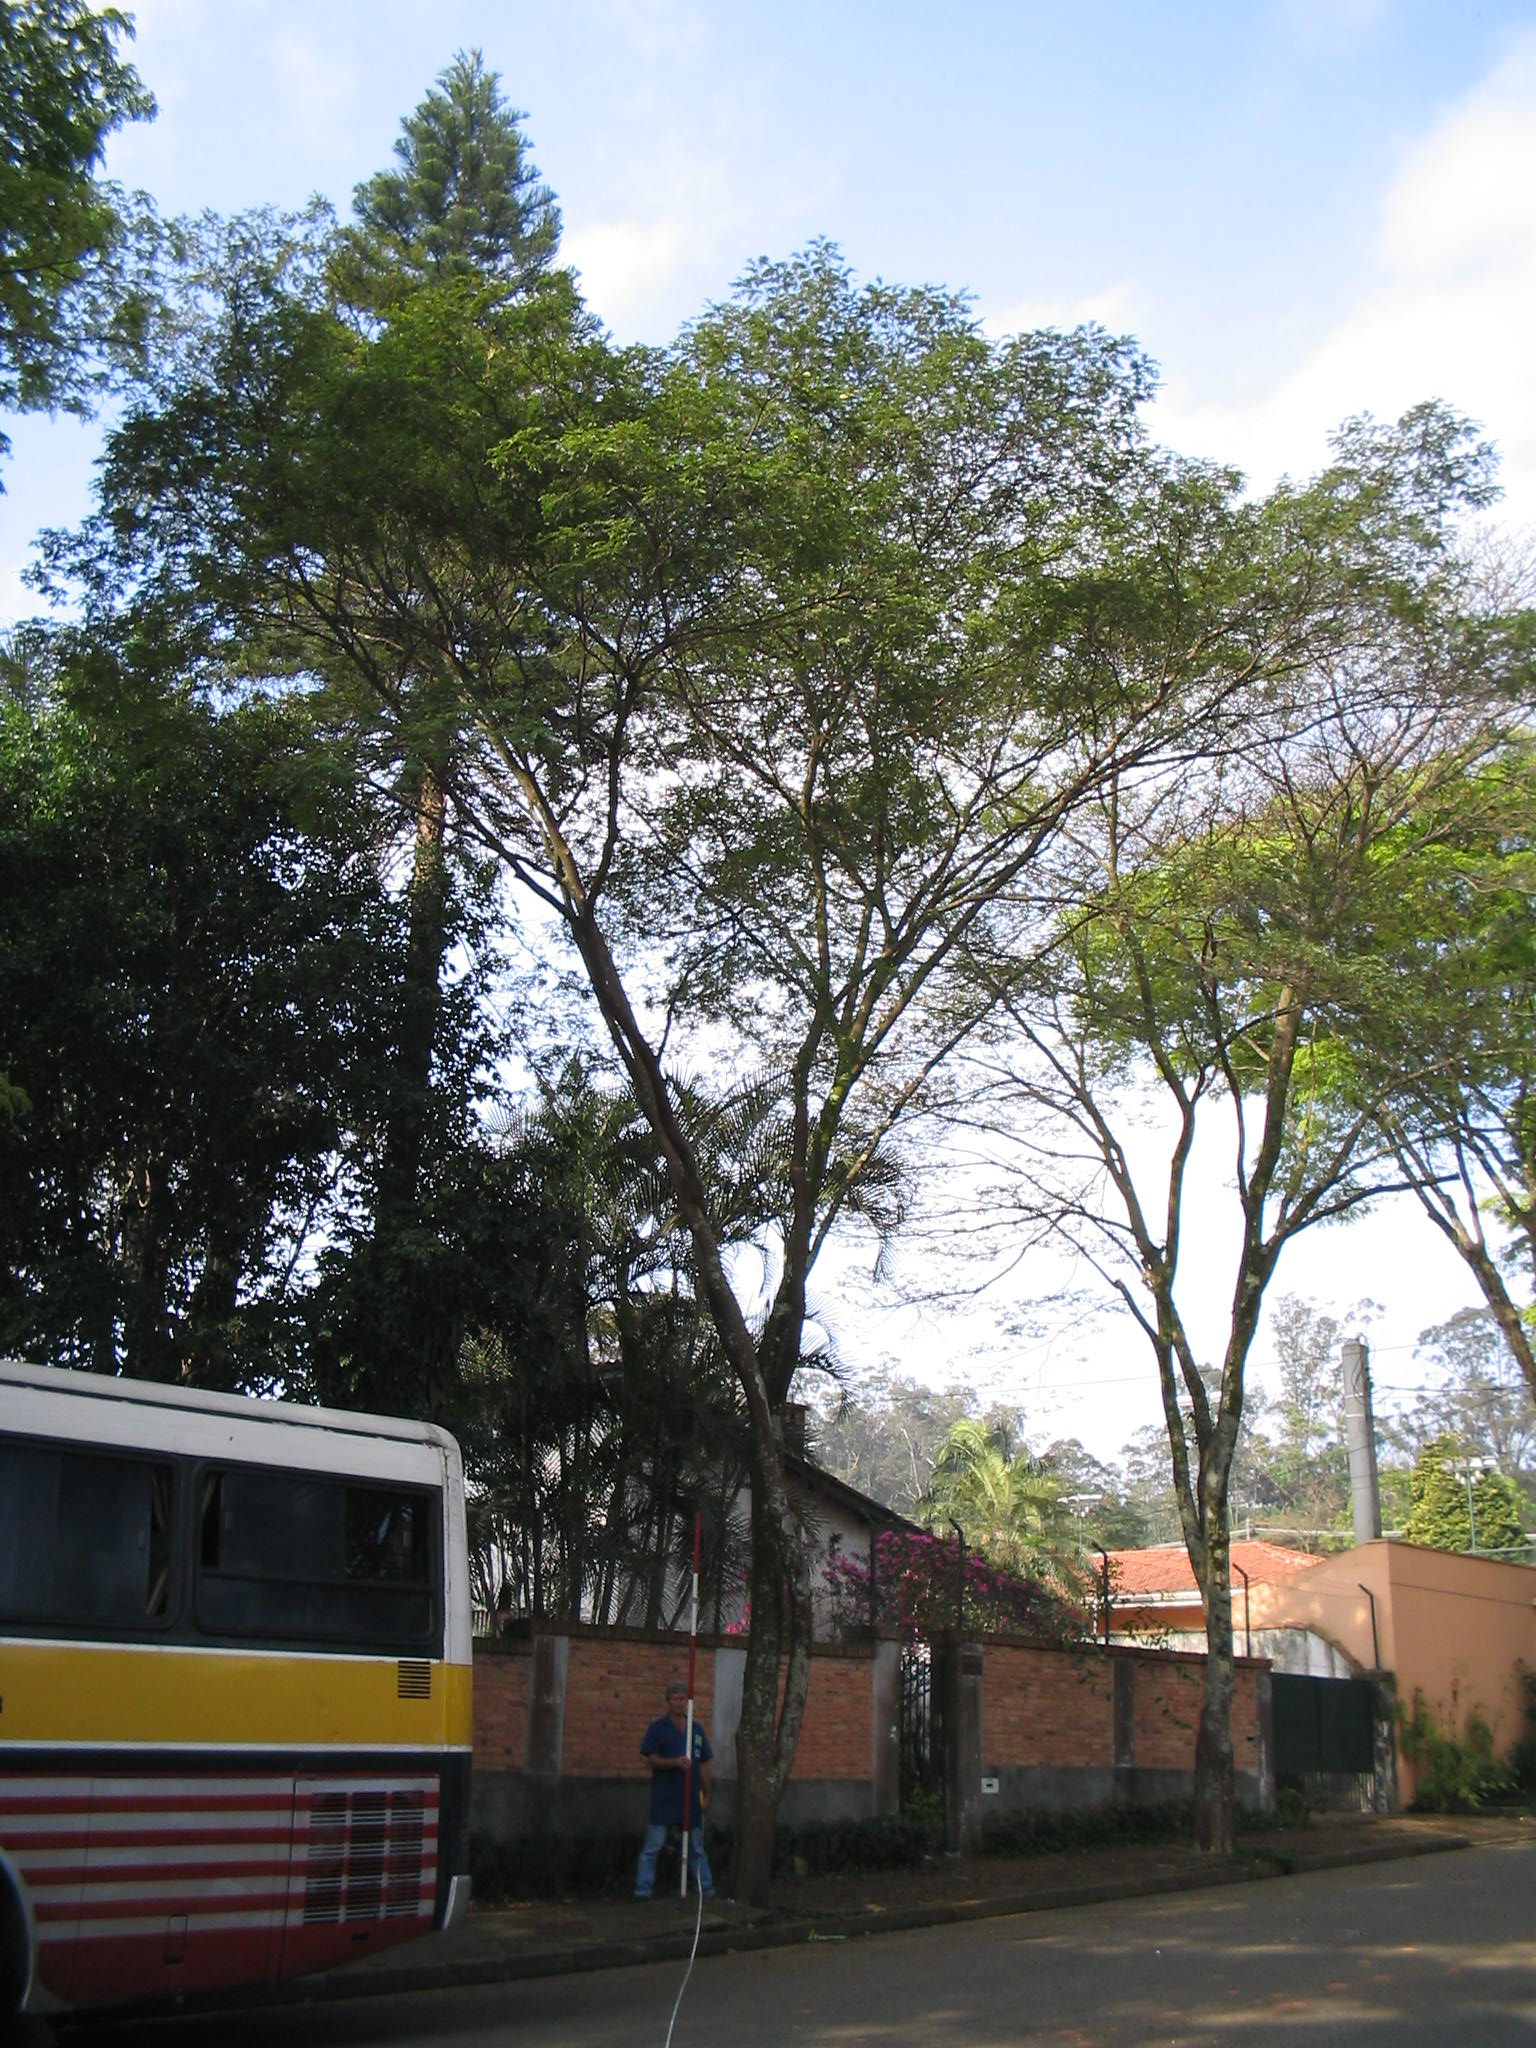crown: (261, 258, 1530, 916)
stem: (1154, 1605, 1271, 1853), (718, 1758, 799, 1903)
stick: (645, 1513, 726, 1895)
tree: (253, 253, 1536, 1906), (949, 695, 1486, 1861)
